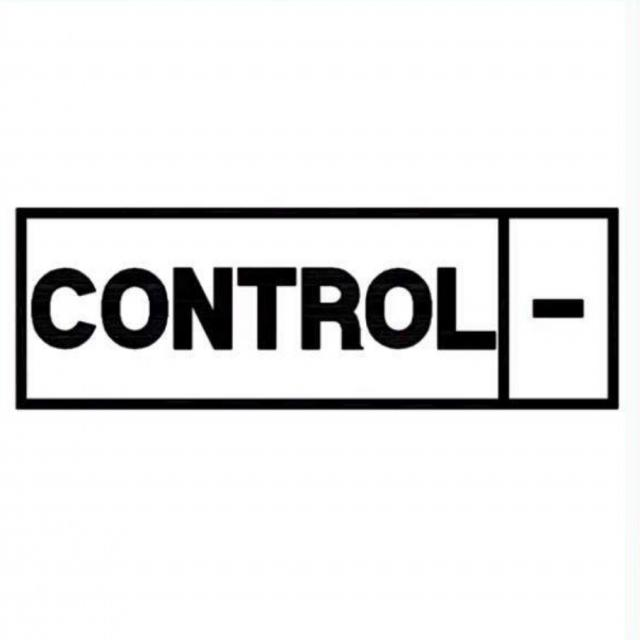Negative Control: (16, 206, 620, 415)
